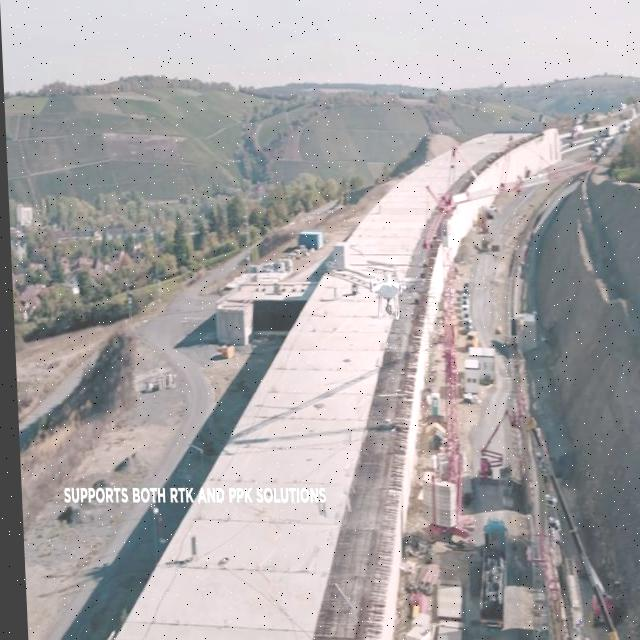drone: (363, 270, 415, 318)
